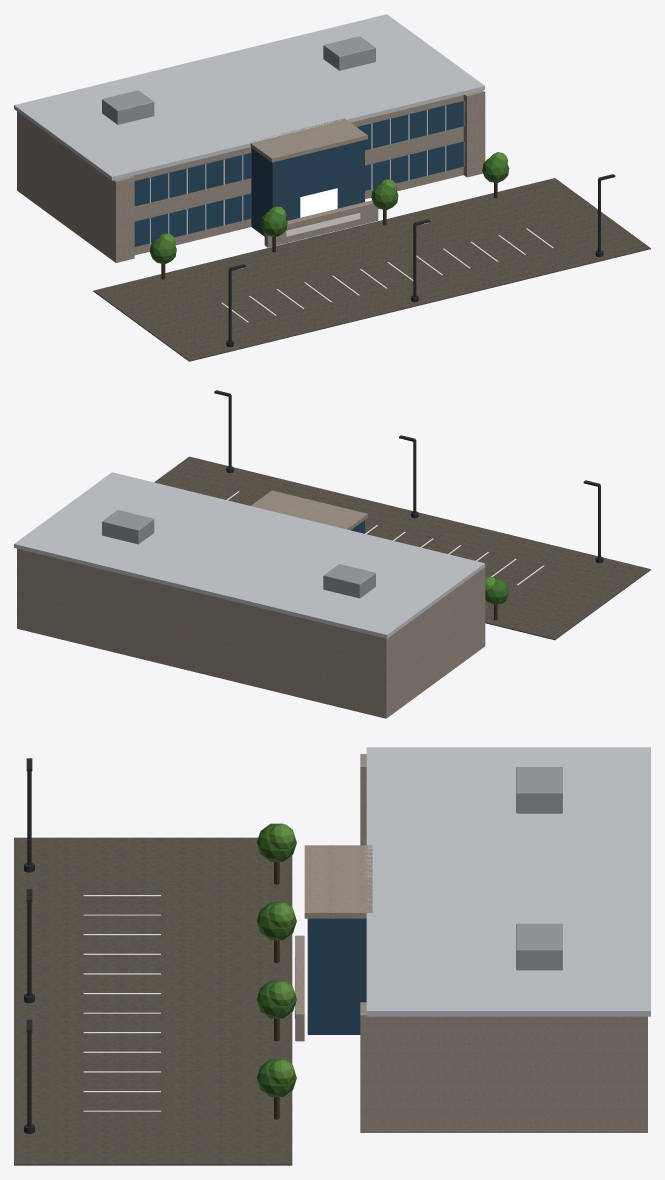
The model's file is OT_OfficePark_A.glb.
The picture shows the model from 3 angles, top to bottom: view 1: azimuth 30°, elevation 25°; view 2: azimuth 150°, elevation 25°; view 3: azimuth 270°, elevation 25°; orthographic projection. The views are drawn at different scales.
Visible parts, largest first — view 1: OT_OfficePark_A_Pavement, OT_OfficePark_A_Mullion__c9ccd1, OT_OfficePark_A_Stucco, OT_OfficePark_A_BlueGlass__2b4d66, OT_OfficePark_A_SteelGrey__9aa0a6, OT_OfficePark_A_Leaf__3f6e2c, OT_OfficePark_A_PoleDark__2a2c30, OT_OfficePark_A_InteriorWarm__ffdca8, OT_OfficePark_A_PaintWhite__f0f0ee; view 2: OT_OfficePark_A_Stucco, OT_OfficePark_A_Mullion__c9ccd1, OT_OfficePark_A_Pavement, OT_OfficePark_A_SteelGrey__9aa0a6, OT_OfficePark_A_PoleDark__2a2c30; view 3: OT_OfficePark_A_Pavement, OT_OfficePark_A_Mullion__c9ccd1, OT_OfficePark_A_Stucco, OT_OfficePark_A_BlueGlass__2b4d66, OT_OfficePark_A_SteelGrey__9aa0a6, OT_OfficePark_A_Leaf__3f6e2c, OT_OfficePark_A_Leaf2__58893a, OT_OfficePark_A_PoleDark__2a2c30, OT_OfficePark_A_PaintWhite__f0f0ee.
Part boxes in pixels (x1=…): OT_OfficePark_A_Pavement: x1=93, y1=178, x2=650, y2=361; OT_OfficePark_A_Mullion__c9ccd1: x1=14, y1=14, x2=484, y2=243; OT_OfficePark_A_Stucco: x1=17, y1=90, x2=485, y2=262; OT_OfficePark_A_BlueGlass__2b4d66: x1=134, y1=101, x2=463, y2=246; OT_OfficePark_A_SteelGrey__9aa0a6: x1=102, y1=36, x2=375, y2=124; OT_OfficePark_A_Leaf__3f6e2c: x1=150, y1=157, x2=509, y2=264; OT_OfficePark_A_PoleDark__2a2c30: x1=226, y1=174, x2=615, y2=347; OT_OfficePark_A_InteriorWarm__ffdca8: x1=300, y1=188, x2=337, y2=217; OT_OfficePark_A_PaintWhite__f0f0ee: x1=221, y1=228, x2=553, y2=322; OT_OfficePark_A_Stucco: x1=17, y1=490, x2=485, y2=718; OT_OfficePark_A_Mullion__c9ccd1: x1=14, y1=472, x2=484, y2=638; OT_OfficePark_A_Pavement: x1=154, y1=456, x2=650, y2=640; OT_OfficePark_A_SteelGrey__9aa0a6: x1=102, y1=510, x2=375, y2=598; OT_OfficePark_A_PoleDark__2a2c30: x1=214, y1=390, x2=603, y2=563; OT_OfficePark_A_Pavement: x1=14, y1=837, x2=292, y2=1165; OT_OfficePark_A_Mullion__c9ccd1: x1=366, y1=747, x2=650, y2=1016; OT_OfficePark_A_Stucco: x1=295, y1=754, x2=647, y2=1132; OT_OfficePark_A_BlueGlass__2b4d66: x1=307, y1=918, x2=366, y2=1034; OT_OfficePark_A_SteelGrey__9aa0a6: x1=516, y1=767, x2=562, y2=970; OT_OfficePark_A_Leaf__3f6e2c: x1=256, y1=823, x2=296, y2=1096; OT_OfficePark_A_Leaf2__58893a: x1=269, y1=824, x2=295, y2=1084; OT_OfficePark_A_PoleDark__2a2c30: x1=24, y1=758, x2=34, y2=1133; OT_OfficePark_A_PaintWhite__f0f0ee: x1=83, y1=895, x2=160, y2=1111.
Bounding box in the file's own units: 50 × 10.3 × 41.2.
Materials: 13 (2 with a texture image).
